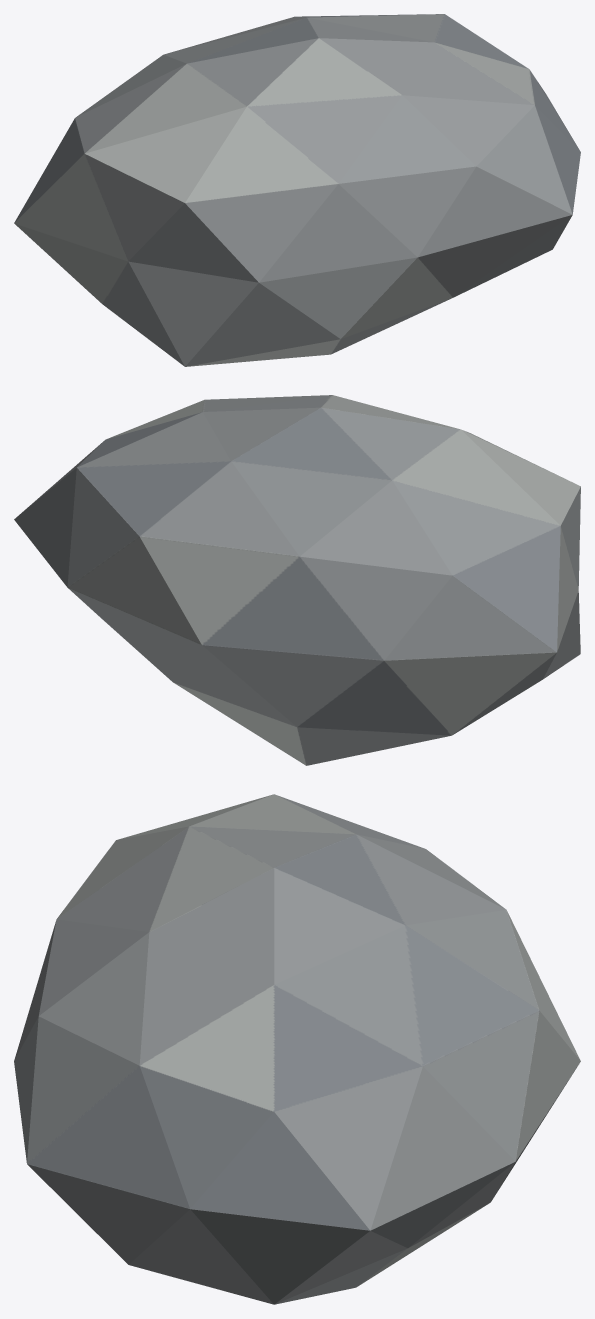
The model's file is asset.glb.
The picture shows the model from 3 angles, top to bottom: view 1: azimuth 30°, elevation 25°; view 2: azimuth 150°, elevation 25°; view 3: azimuth 270°, elevation 25°; orthographic projection. The views are drawn at different scales.
Parts seen in each view (by area): view 1: Stone; view 2: Stone; view 3: Stone.
Part boxes in pixels (x1=…): Stone: x1=14, y1=14, x2=580, y2=366; Stone: x1=14, y1=395, x2=580, y2=765; Stone: x1=14, y1=794, x2=580, y2=1304.
Size of the model in its own units: 1.36 by 0.7346 by 0.9551.
Materials: 1 (1 with a texture image).
